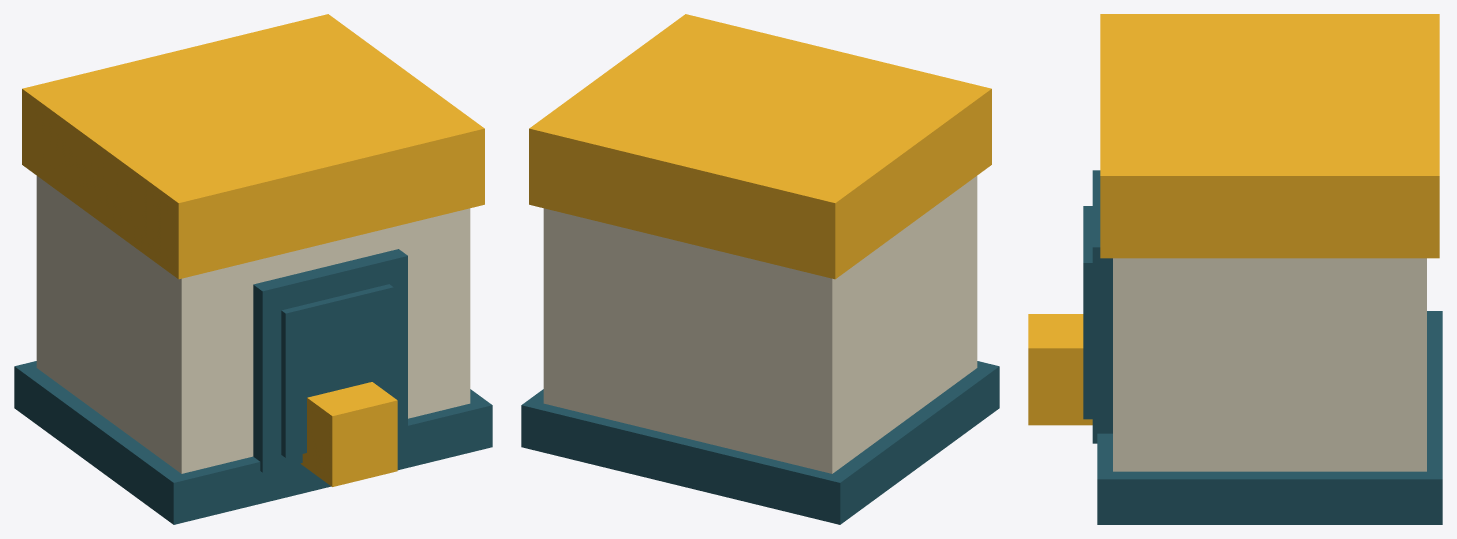
Rendered from storage.glb.
The picture shows the model from 3 angles, left to right: view 1: azimuth 30°, elevation 25°; view 2: azimuth 150°, elevation 25°; view 3: azimuth 270°, elevation 25°; orthographic projection. The views are drawn at different scales.
Parts seen in each view (by area): view 1: Golden roof, Storage building, Storage foundation, Door opening, Door frame, Cargo; view 2: Storage building, Golden roof, Storage foundation; view 3: Golden roof, Storage building, Storage foundation, Cargo, Door frame, Door opening.
Boxes of the visible parts, left/top/right/bottom form: Golden roof: left=22, top=14, right=484, bottom=279; Storage building: left=36, top=176, right=470, bottom=473; Storage foundation: left=14, top=361, right=492, bottom=524; Door opening: left=281, top=284, right=393, bottom=457; Door frame: left=253, top=249, right=407, bottom=472; Cargo: left=300, top=382, right=397, bottom=486; Storage building: left=543, top=176, right=977, bottom=473; Golden roof: left=529, top=14, right=991, bottom=279; Storage foundation: left=521, top=361, right=999, bottom=524; Golden roof: left=1100, top=14, right=1439, bottom=258; Storage building: left=1113, top=258, right=1426, bottom=471; Storage foundation: left=1097, top=311, right=1442, bottom=524; Cargo: left=1028, top=314, right=1092, bottom=425; Door frame: left=1092, top=170, right=1112, bottom=443; Door opening: left=1083, top=206, right=1092, bottom=419.
Bounding box in the file's own units: 1.27 × 1.22 × 1.32.
